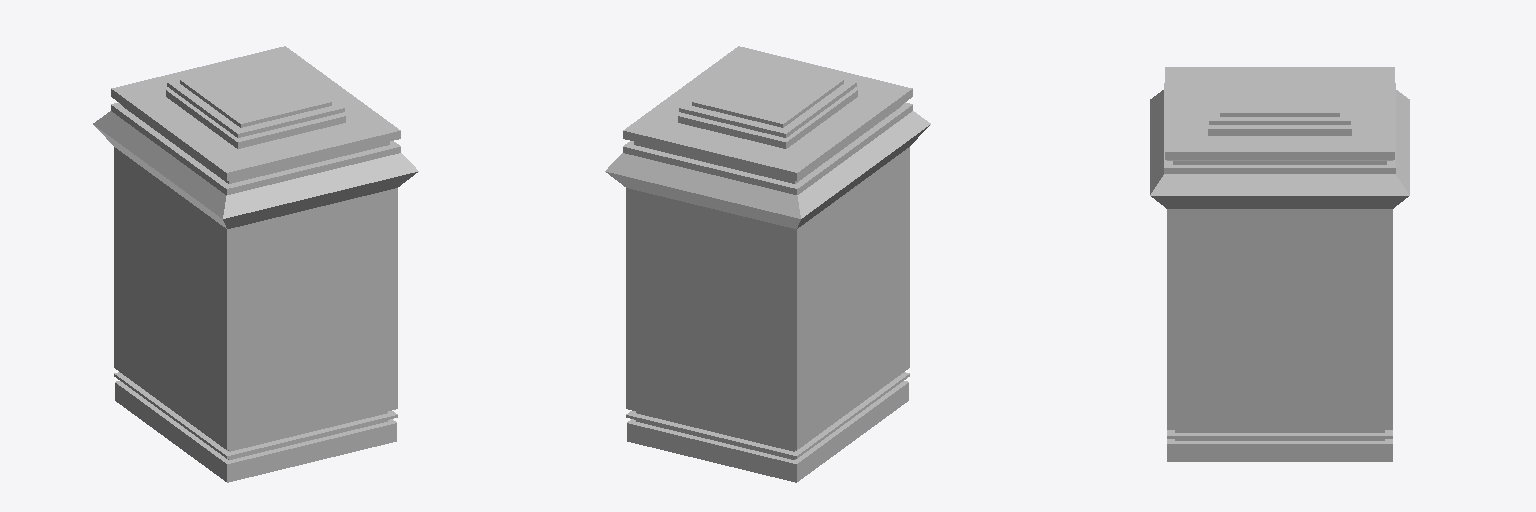
The model's file is autel.obj.
3 renders of one model, left to right at view 1: azimuth 30°, elevation 25°; view 2: azimuth 150°, elevation 25°; view 3: azimuth 270°, elevation 25°, orthographic.
Size of the model in its own units: 0.455 by 0.7301 by 0.5222.